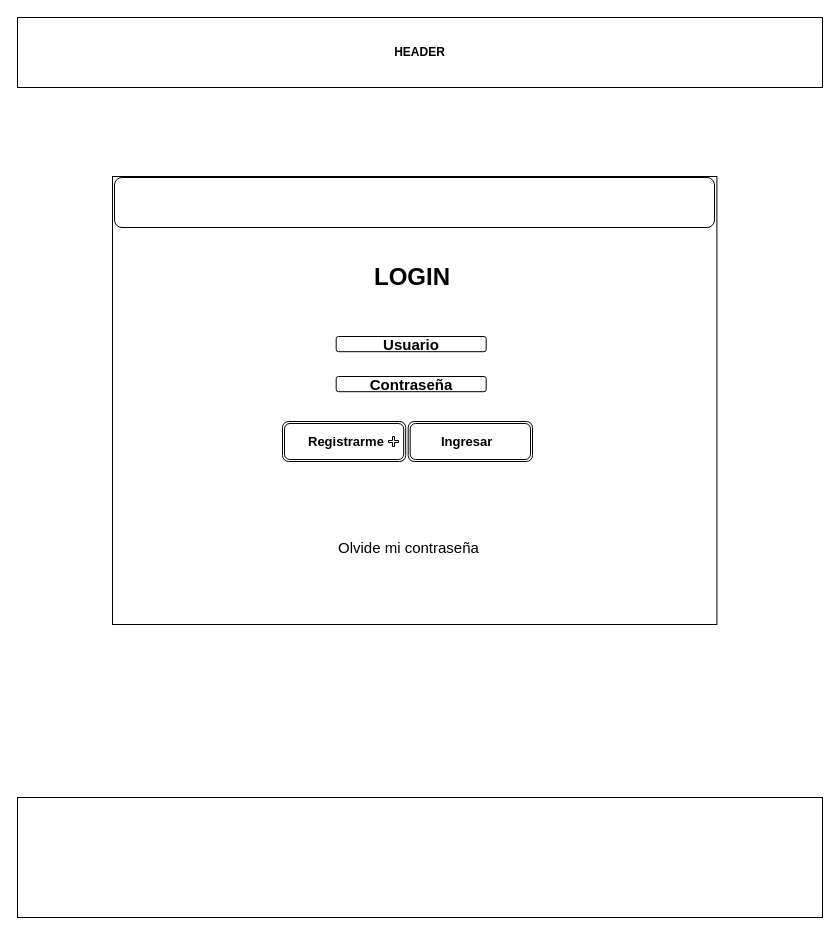
Image size: 840x935. Some labels were removed from this diagram. Each missing label, with the centre of its shape:
"Crear.LA" belongs at pixel 414 202.
"FOOTER" belongs at pixel 419 857.
